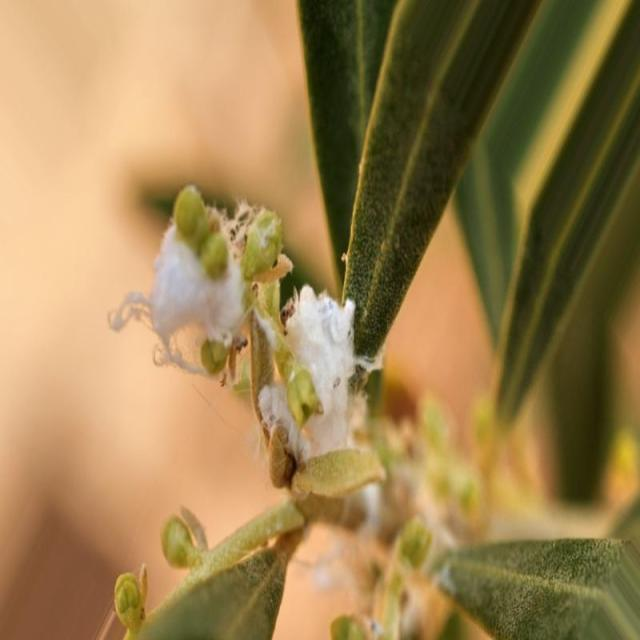Psyllid: (108, 185, 382, 489)
